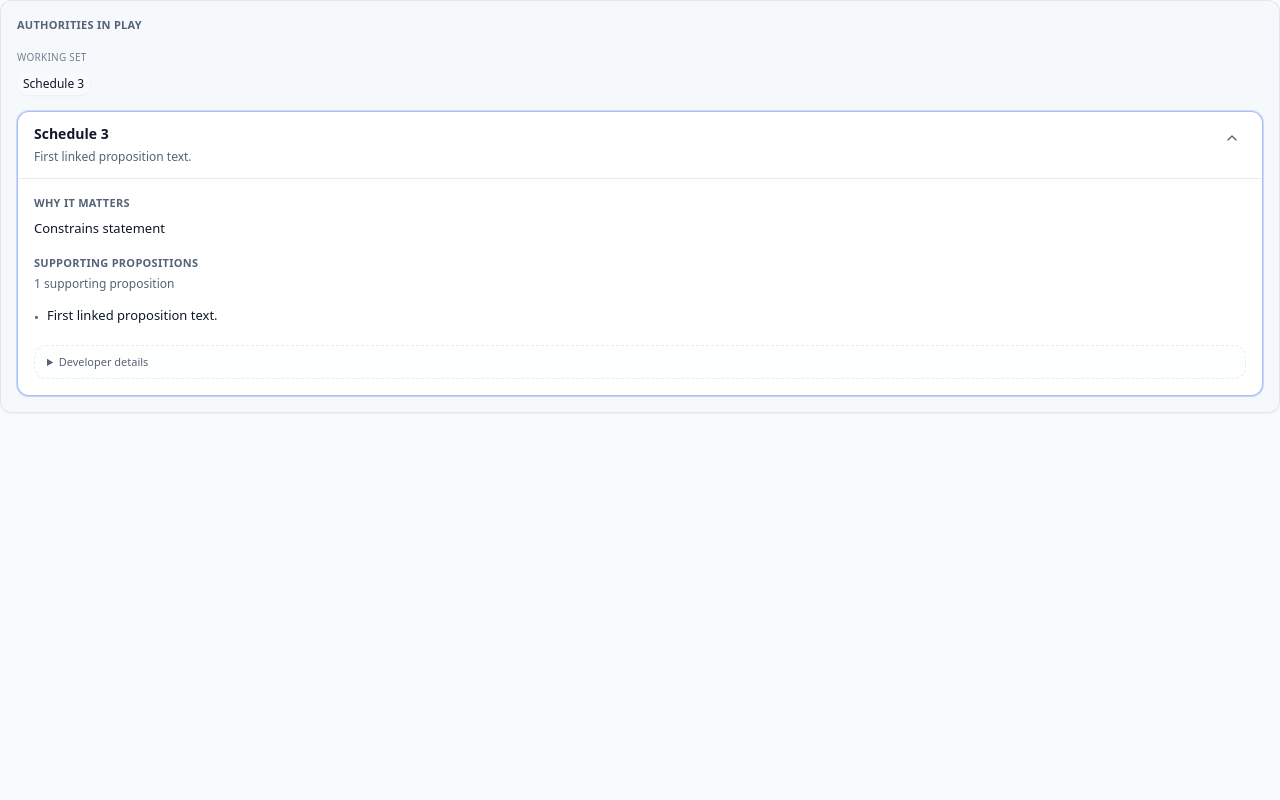
Test case: LegalContextPanel workspace › hides developer IDs until developer details is opened
The width and height of the screenshot is (1280, 800).
Step 1. Click the heading "Developer details" → (103, 361), box [59,354,148,368]
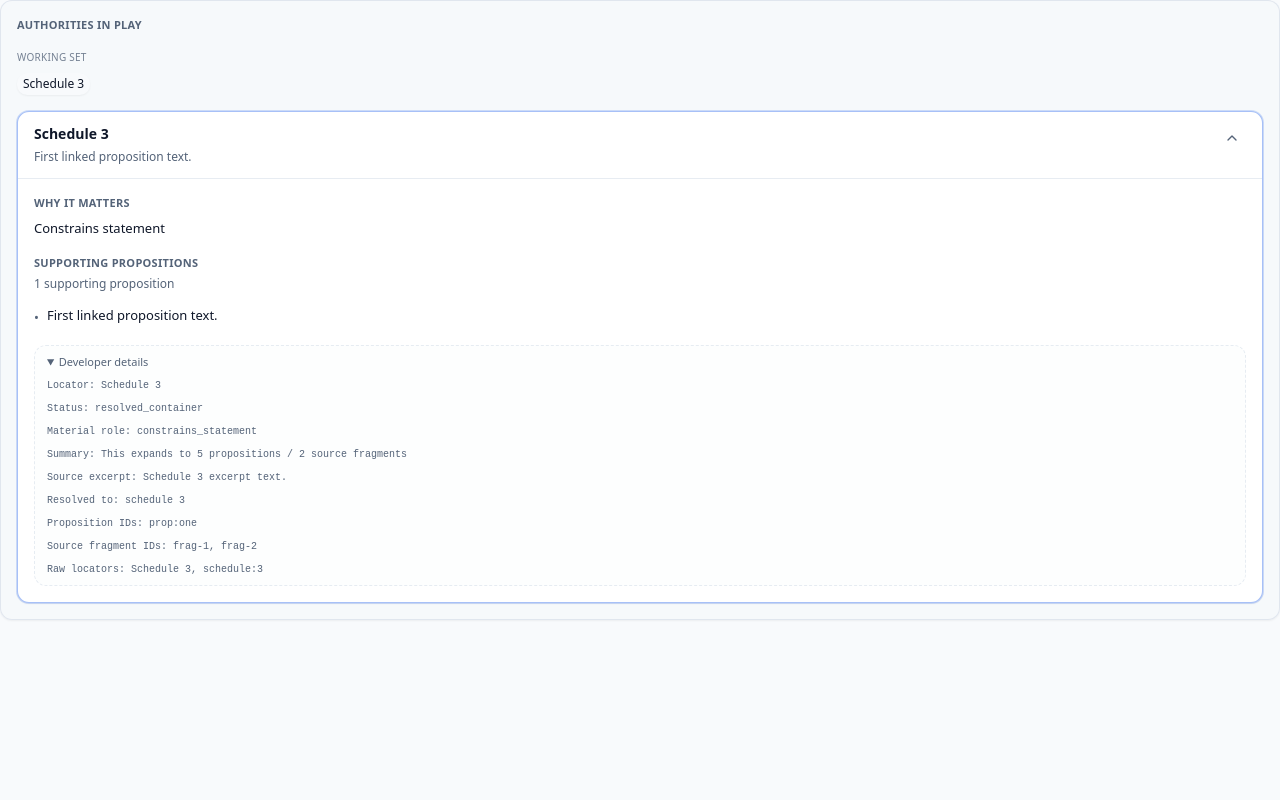
Expected: the element with test id "legal-context-developer-details" shows "prop:one", [149,518,197,529]
